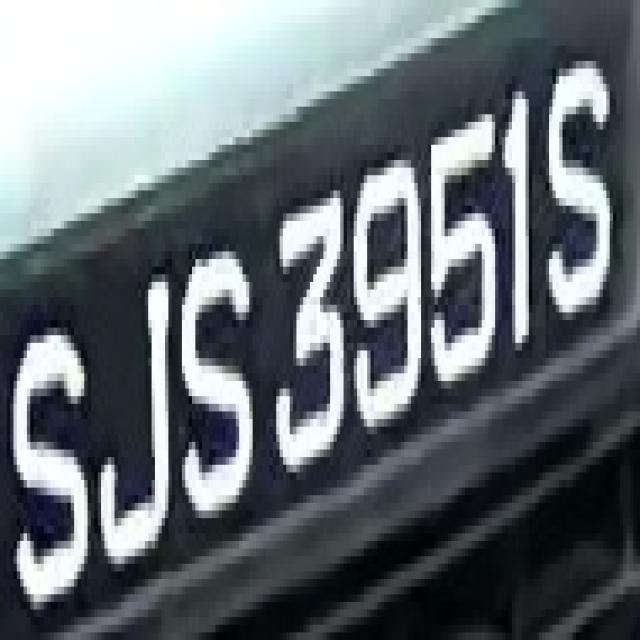1: (495, 61, 536, 366)
3: (276, 183, 347, 480)
5: (421, 107, 499, 419)
9: (353, 130, 428, 426)
J: (91, 252, 178, 617)
S: (10, 290, 98, 632), (539, 38, 620, 335), (175, 228, 253, 534)
